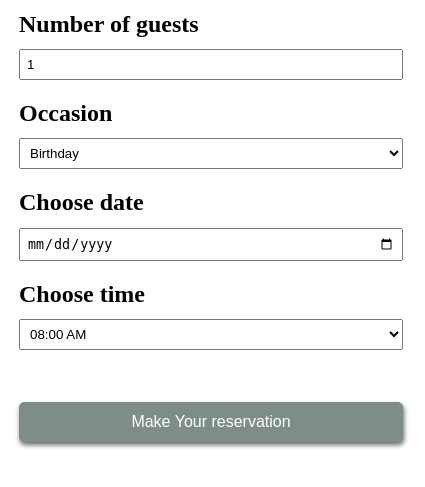
Scenario: BookingForm Component › displays validation error for invalid guests
Type "0" into the number field labelled "Number of guests". click: (211, 65)
box: top-left (19, 49), bottom-right (403, 80)
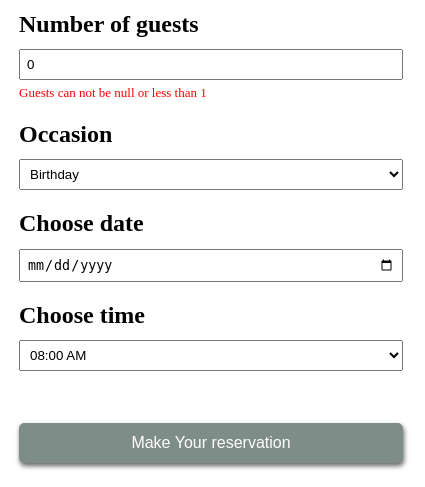
Check: the text "Guests can not be null or less than 1" is shown, box top-left (19, 85), bottom-right (207, 100)
